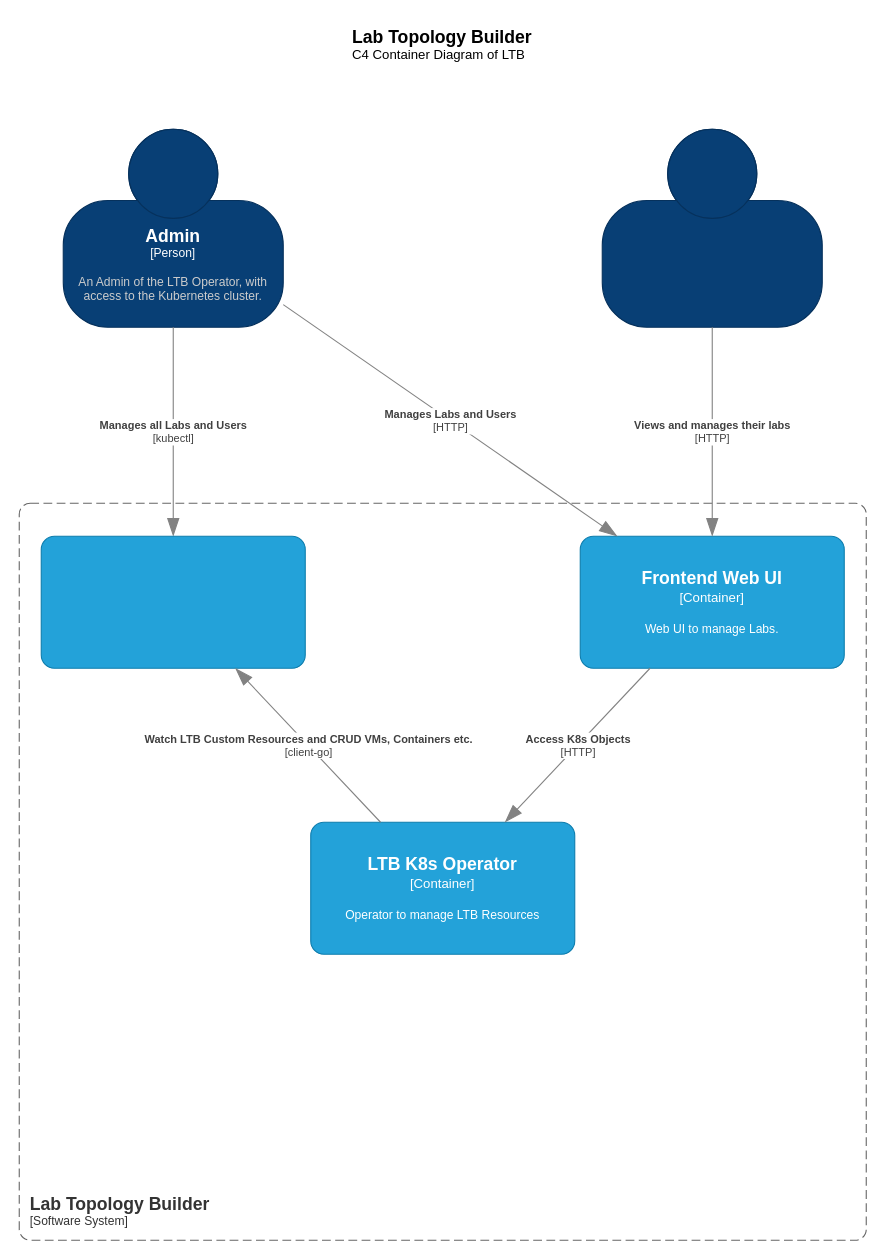
The diagram is 886 pixels wide and 1260 high, and some of its shapes have lost their labels. The box of each missing label's shape, as (x1, y1, x2, y2) in pixels:
K8s API [Container] Kubernetes API: (40, 535, 305, 668)
User [Person] User who wants to use deployed Labs for educational purposes.: (601, 128, 822, 327)
